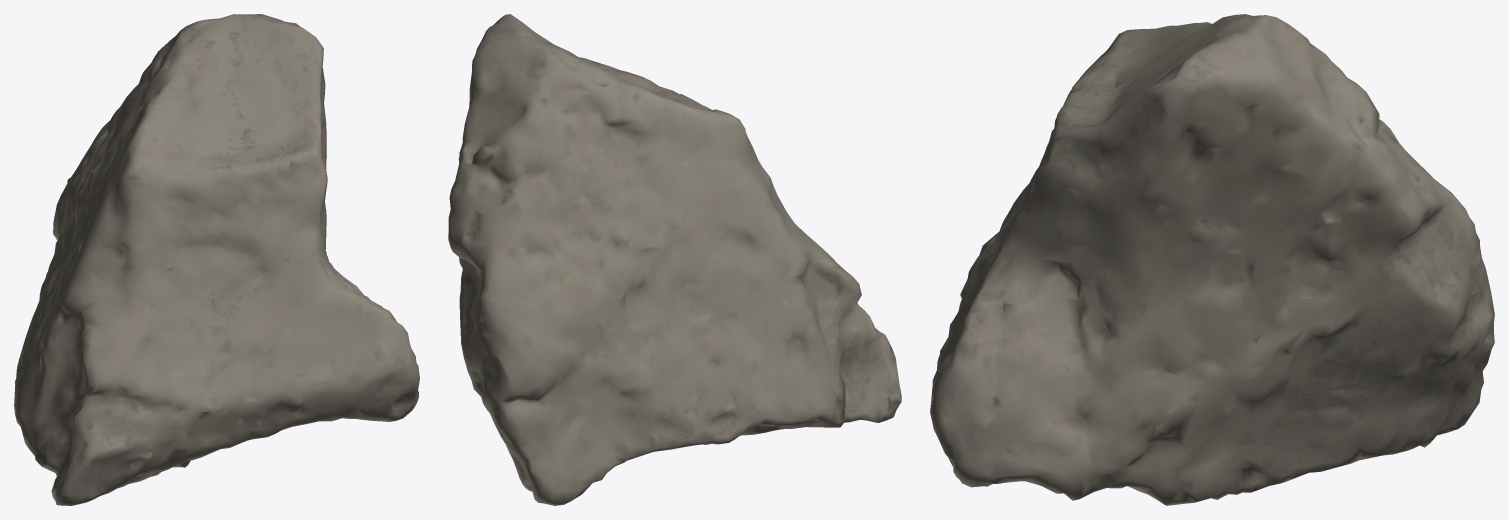
Rendered from stone_b.glb.
3 renders of one model, left to right at view 1: azimuth 30°, elevation 25°; view 2: azimuth 150°, elevation 25°; view 3: azimuth 270°, elevation 25°, orthographic. The views are drawn at different scales.
Visible parts, largest first — view 1: moon_rock_05_LOD0; view 2: moon_rock_05_LOD0; view 3: moon_rock_05_LOD0.
Part boxes in pixels (left/top/right/bottom): moon_rock_05_LOD0: left=14, top=14, right=419, bottom=505; moon_rock_05_LOD0: left=448, top=14, right=901, bottom=505; moon_rock_05_LOD0: left=930, top=14, right=1494, bottom=505.
Bounding box in the file's own units: 0.0717 × 0.0734 × 0.0811.
Materials: 1 (1 with a texture image).
